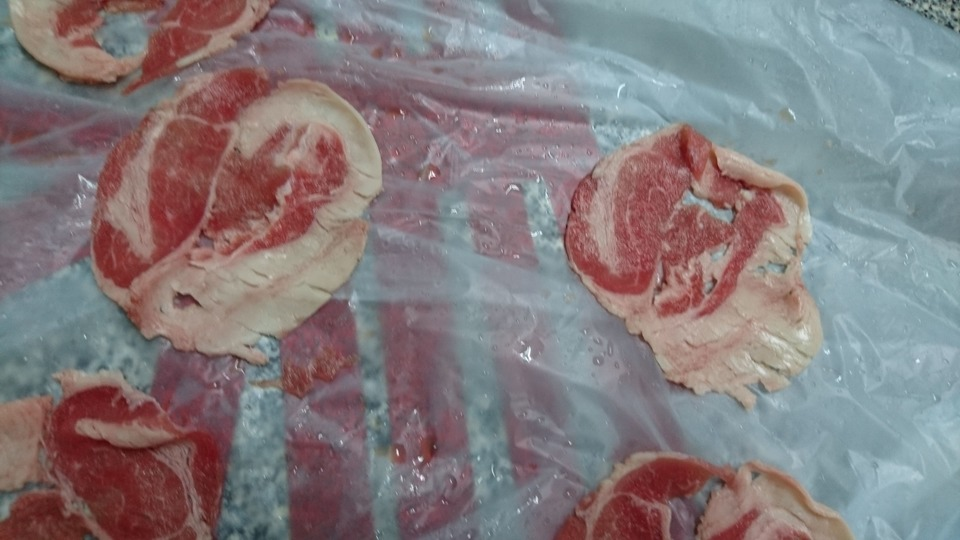restructured meat: (96, 68, 382, 362), (560, 104, 846, 398), (1, 383, 221, 540), (554, 451, 849, 538)
